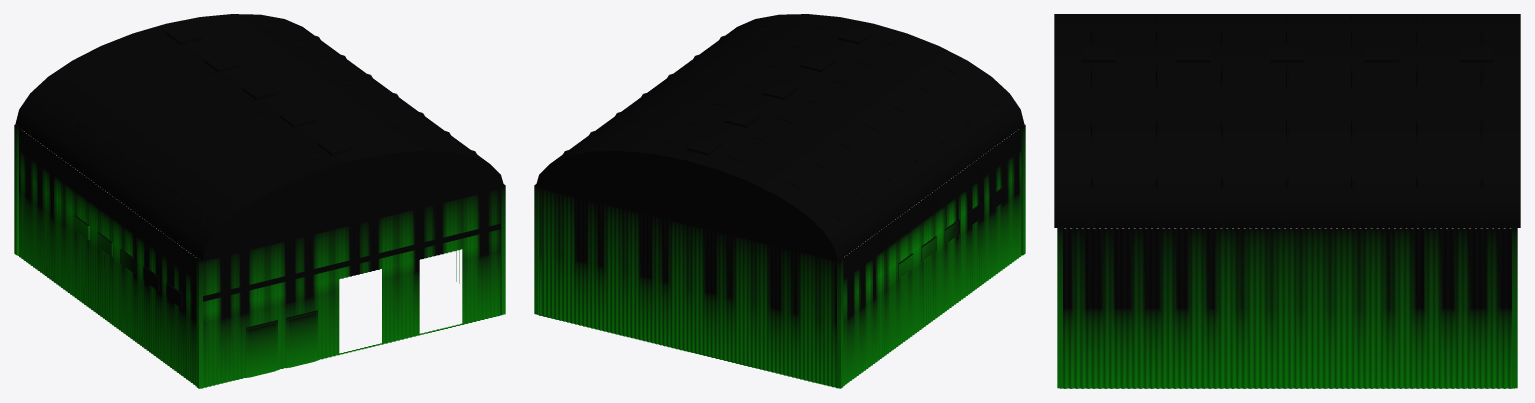
File: industrialcomplex.glb
3 renders of one model, left to right at view 1: azimuth 30°, elevation 25°; view 2: azimuth 150°, elevation 25°; view 3: azimuth 270°, elevation 25°, orthographic. The views are drawn at different scales.
Visible parts, largest first — view 1: lod0; view 2: lod0; view 3: lod0.
Part boxes in pixels (<box>): lod0: <box>14,14,505,388</box>; lod0: <box>534,14,1025,388</box>; lod0: <box>1054,14,1520,388</box>.
Size of what is drawn, in the model's own units: 22.9 by 13.93 by 24.2.
